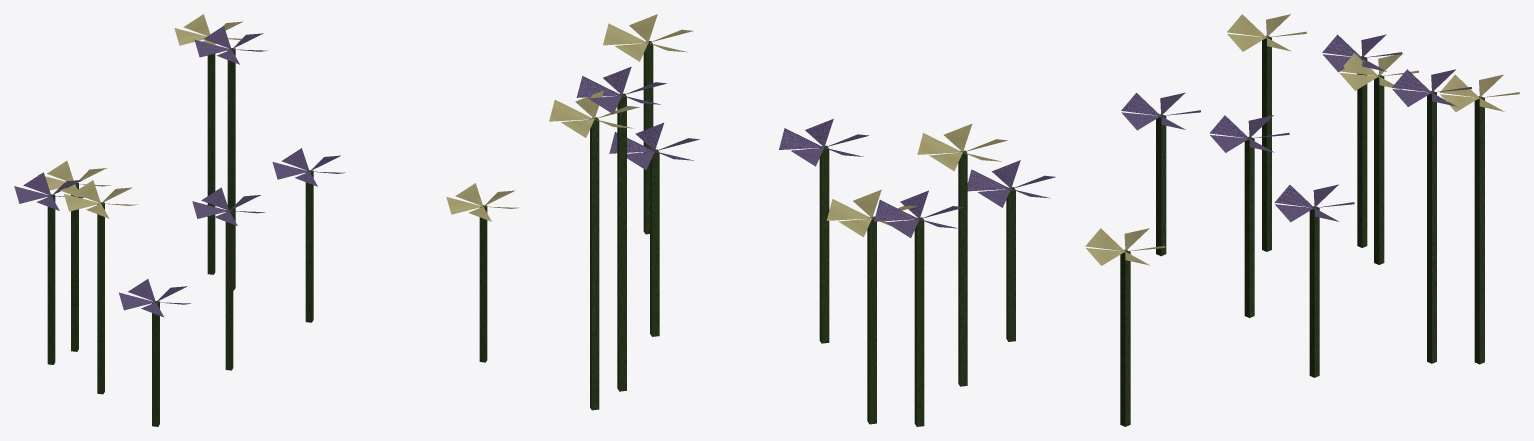
File: level_woodland_flowers.glb
3 views of the same model, side by side, from view 1: azimuth 30°, elevation 25°; view 2: azimuth 150°, elevation 25°; view 3: azimuth 270°, elevation 25° (orthographic). The views are drawn at different scales.
Visible parts, largest first — view 1: level_woodland_flowers; view 2: level_woodland_flowers; view 3: level_woodland_flowers.
Part boxes in pixels (x1=…): level_woodland_flowers: x1=14, y1=14, x2=518, y2=426; level_woodland_flowers: x1=549, y1=14, x2=1055, y2=426; level_woodland_flowers: x1=1085, y1=14, x2=1519, y2=426.
Size of the model in its own units: 0.6034 by 0.3652 by 0.517.
Materials: 3 (3 with a texture image).
